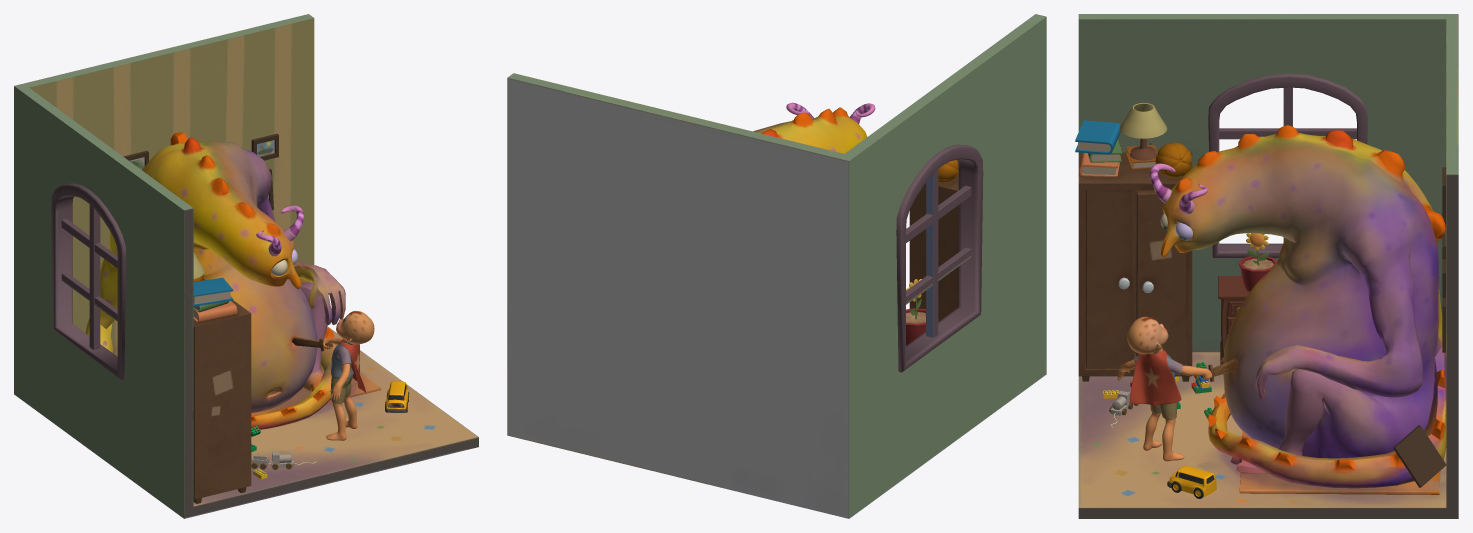
The model's file is boy-room.glb.
The picture shows the model from 3 angles, left to right: view 1: azimuth 30°, elevation 25°; view 2: azimuth 150°, elevation 25°; view 3: azimuth 270°, elevation 25°; orthographic projection. The views are drawn at different scales.
Bounding box in the file's own units: 105 × 103 × 104.
8 materials, 8 textured.
